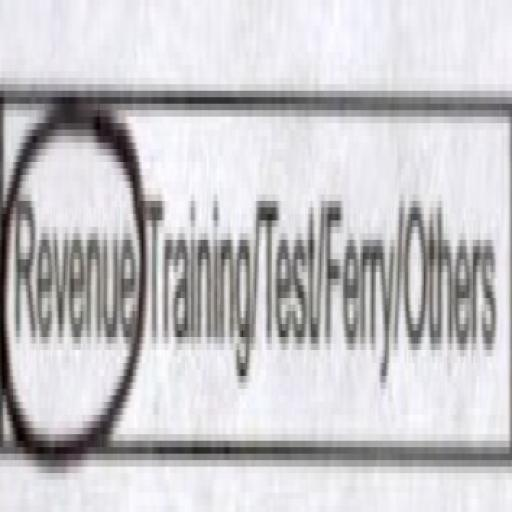check: (2, 7, 144, 512)
